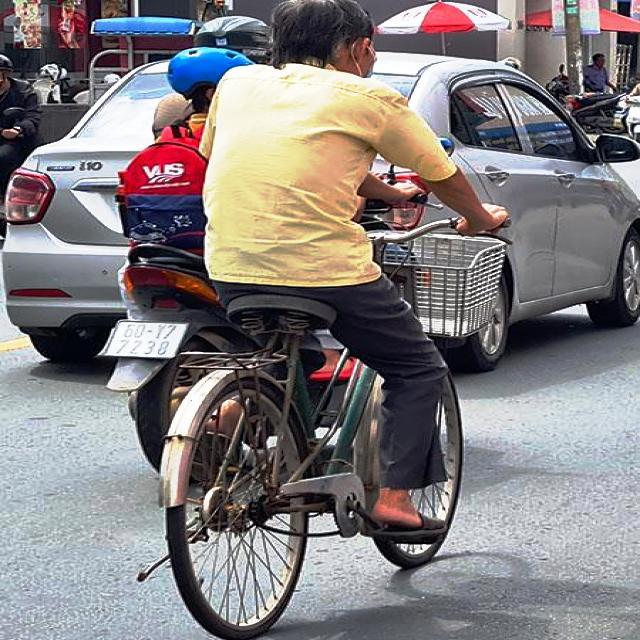license_plate: (98, 319, 193, 359)
